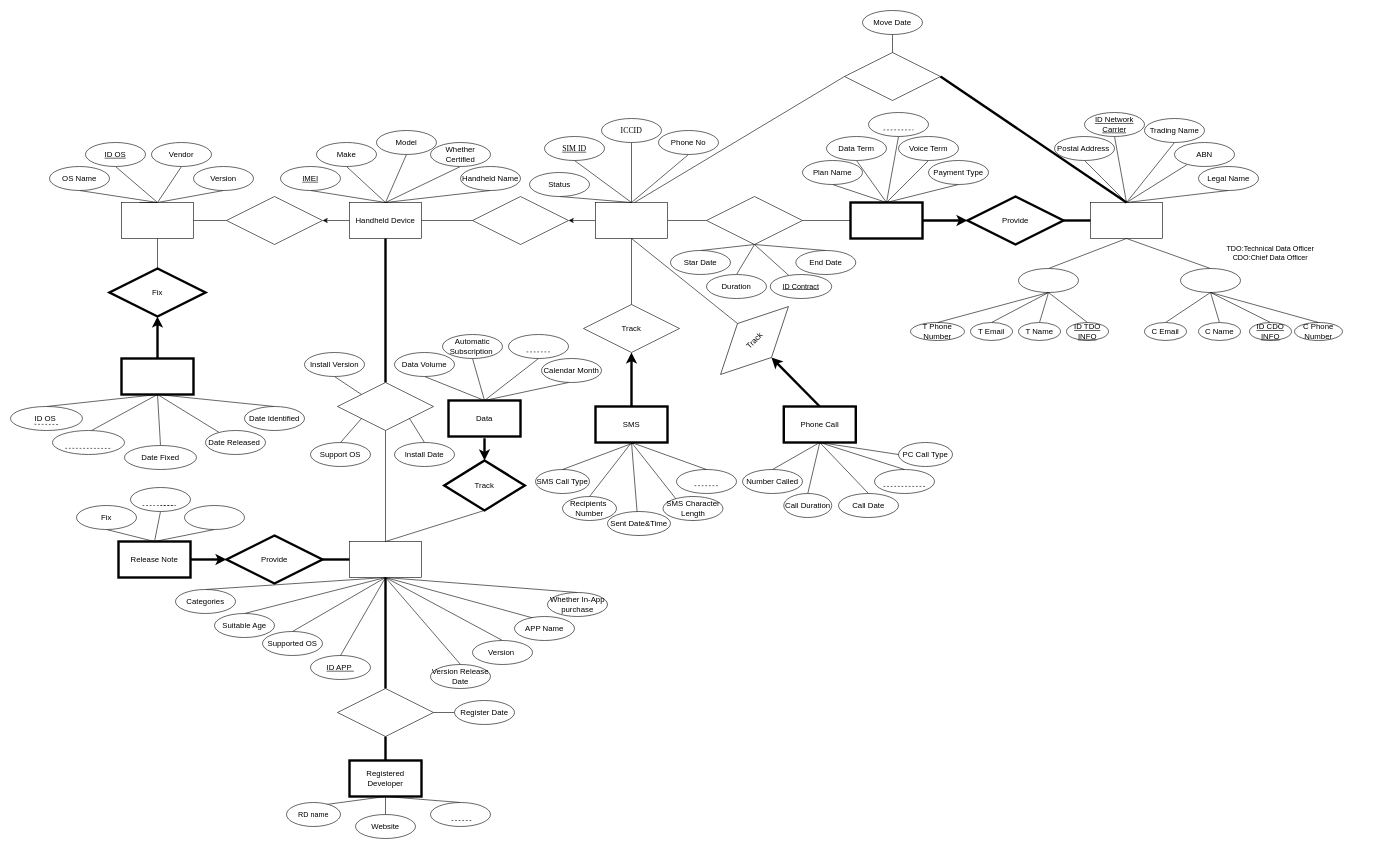
The diagram is 1389 pixels wide and 849 high, and some of its shapes have lost their labels. Here are the shapes that lost their labels. From the top down, the box of each, then its label:
(844, 52, 940, 100): Phone Number History
(868, 112, 928, 136): ID Plan
(121, 202, 194, 238): Operating System
(226, 196, 322, 244): Operate
(472, 196, 568, 244): Store
(595, 202, 668, 238): Sim & E-Sims
(706, 196, 802, 244): Contract
(849, 201, 923, 239): Plan
(1090, 202, 1162, 238): Network Carrier
(1018, 268, 1078, 292): TDO INFO
(1180, 268, 1240, 292): CDO INFO
(508, 334, 568, 358): ID Data
(120, 357, 194, 395): Bugs & Security Vulnerabilities
(337, 382, 434, 430): App Install
(52, 430, 124, 454): Patch Version
(130, 487, 190, 512): ID RN
(676, 469, 736, 494): ID SMS
(874, 469, 934, 494): ID Phone call
(184, 505, 244, 530): Enhancement
(349, 541, 422, 578): APP
(337, 688, 434, 736): Develop
(430, 802, 490, 826): Email
